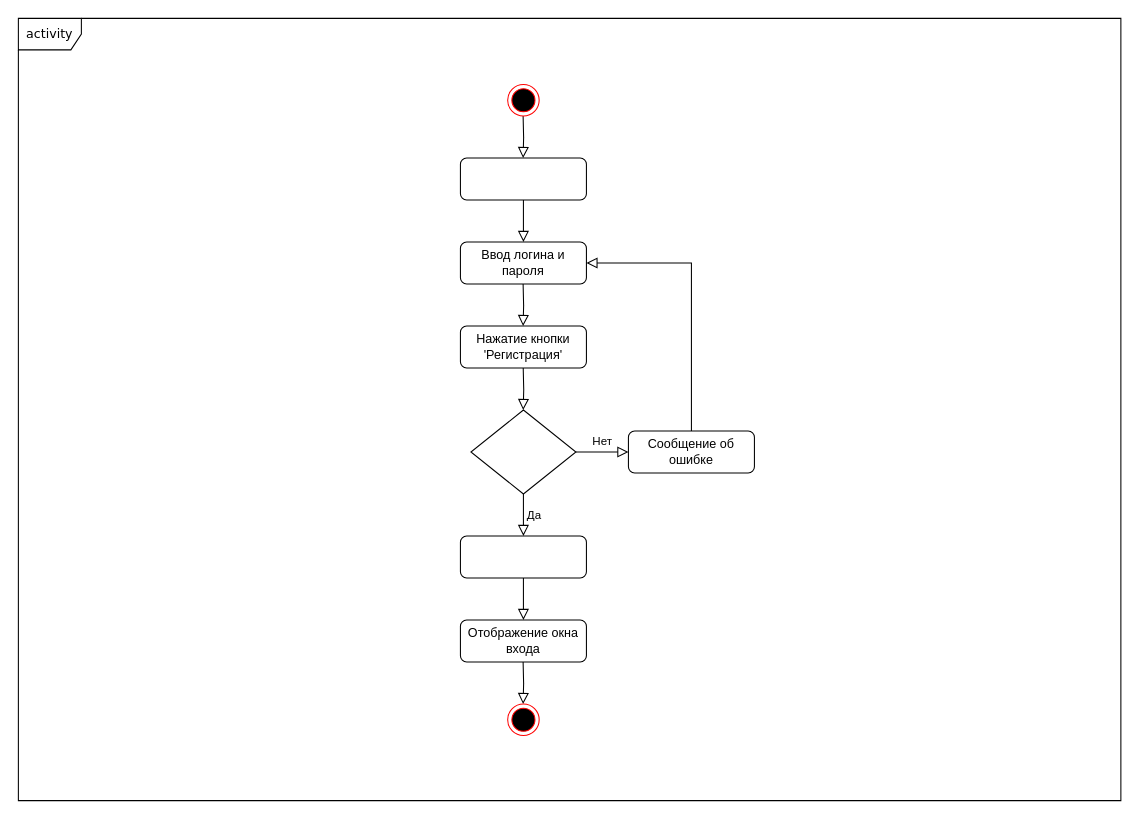
The diagram is 1139 pixels wide and 819 high, and some of its shapes have lost their labels. The shapes that lost their labels are listed below. From the top down, each one's centre as x and y in pixels, then its label:
At [522,178]: "Отображение окна регистрации".
At [523,451]: "Проверка на корректность".
At [522,556]: "Создание нового пользователя".
